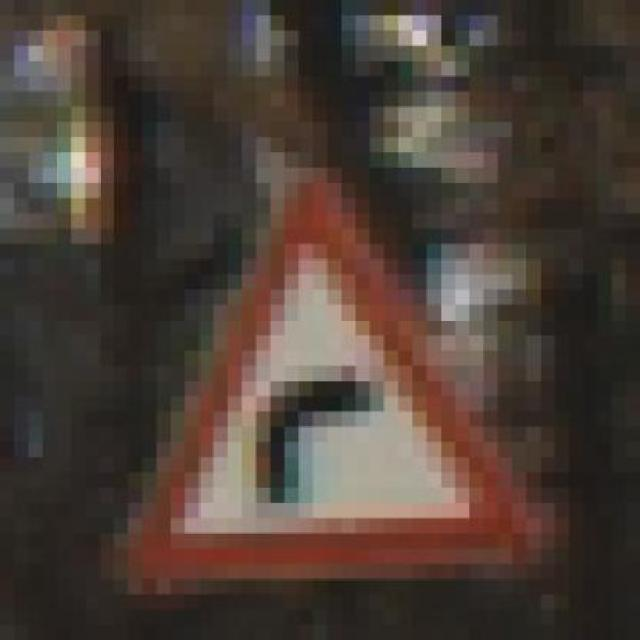Dangerous Rright Curve Ahead: (114, 152, 569, 594)
